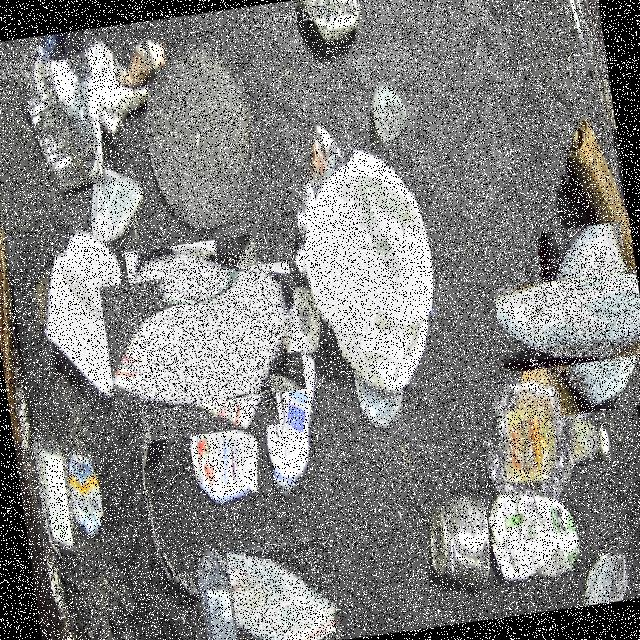milk-jug: (112, 247, 293, 429), (515, 245, 640, 395), (226, 536, 344, 640)
